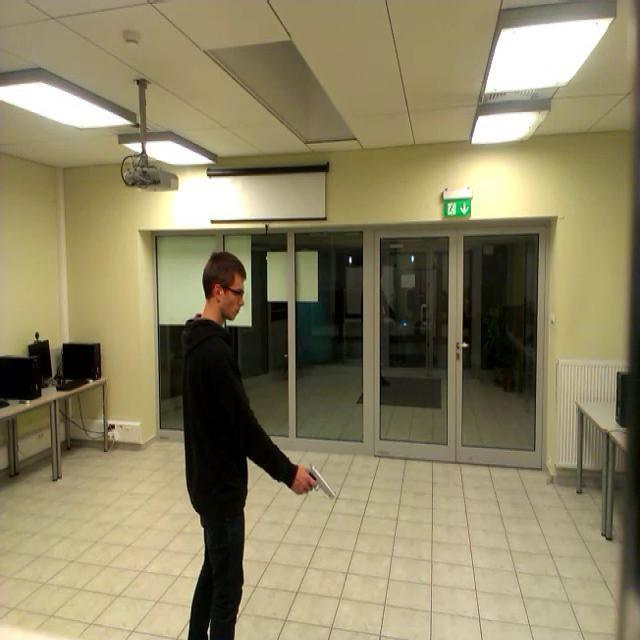weapon: (301, 466, 335, 500)
